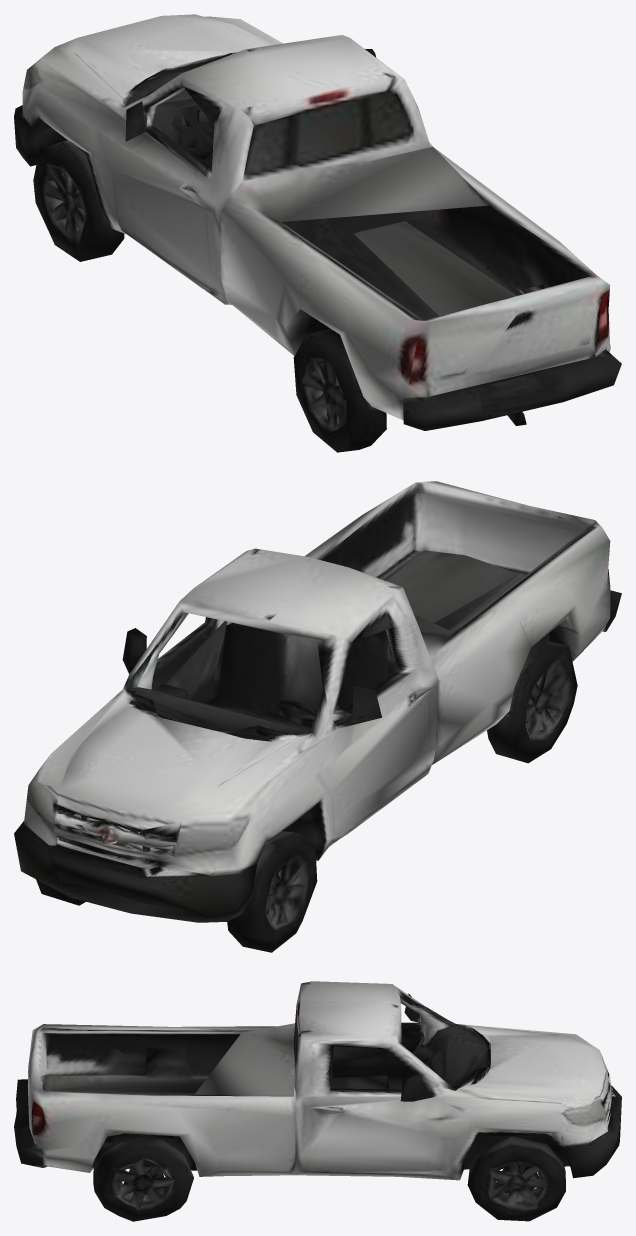
The model's file is sp_car_pickup.glb.
3 views of the same model, one above another, from view 1: azimuth 30°, elevation 25°; view 2: azimuth 150°, elevation 25°; view 3: azimuth 270°, elevation 25° (orthographic). The views are drawn at different scales.
Parts seen in each view (by area): view 1: tripo_node_cc5f7ab9-642b-471d-875f-b0c47b1b36be; view 2: tripo_node_cc5f7ab9-642b-471d-875f-b0c47b1b36be; view 3: tripo_node_cc5f7ab9-642b-471d-875f-b0c47b1b36be.
Part boxes in pixels (box(x1,y1,x2,y2)): tripo_node_cc5f7ab9-642b-471d-875f-b0c47b1b36be: box(14, 14, 621, 452); tripo_node_cc5f7ab9-642b-471d-875f-b0c47b1b36be: box(14, 481, 621, 952); tripo_node_cc5f7ab9-642b-471d-875f-b0c47b1b36be: box(14, 981, 621, 1221).
Bounding box in the file's own units: 2.05 × 1.91 × 5.89.
Materials: 1 (1 with a texture image).
